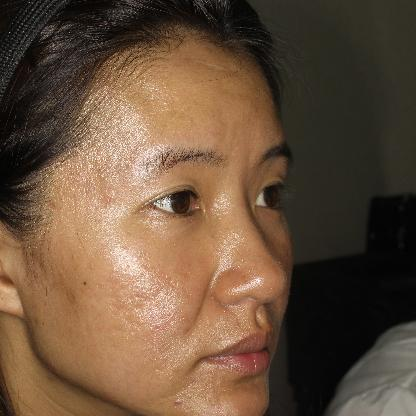Blackheads: (75, 275, 94, 291)
Papules: (169, 393, 188, 411)
